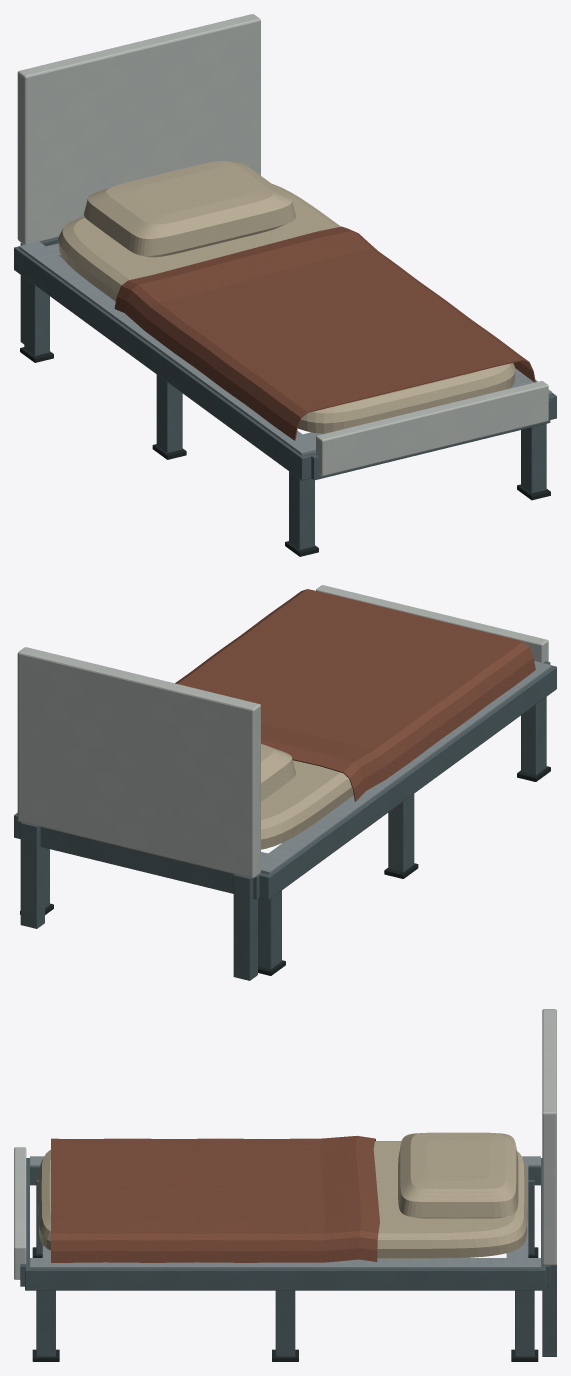
The model's file is AST-CRW-001.glb.
3 views of the same model, one above another, from view 1: azimuth 30°, elevation 25°; view 2: azimuth 150°, elevation 25°; view 3: azimuth 270°, elevation 25° (orthographic). The views are drawn at different scales.
Visible parts, largest first — view 1: AST-CRW-001__STATIC_staff_white_paint, AST-CRW-001__STATIC_crew_terracotta_blanket, AST-CRW-001__STATIC_crew_ecru_sheet, AST-CRW-001__STATIC_staff_bluegrey_paint, AST-CRW-001__STATIC_staff_zinc, AST-CRW-001__STATIC_staff_rubber; view 2: AST-CRW-001__STATIC_staff_white_paint, AST-CRW-001__STATIC_crew_terracotta_blanket, AST-CRW-001__STATIC_staff_bluegrey_paint, AST-CRW-001__STATIC_crew_ecru_sheet, AST-CRW-001__STATIC_staff_zinc, AST-CRW-001__STATIC_staff_rubber; view 3: AST-CRW-001__STATIC_crew_terracotta_blanket, AST-CRW-001__STATIC_crew_ecru_sheet, AST-CRW-001__STATIC_staff_bluegrey_paint, AST-CRW-001__STATIC_staff_zinc, AST-CRW-001__STATIC_staff_white_paint, AST-CRW-001__STATIC_staff_rubber.
Boxes of the visible parts, <box> form: AST-CRW-001__STATIC_staff_white_paint: <box>17,14,548,476</box>; AST-CRW-001__STATIC_crew_terracotta_blanket: <box>114,226,535,440</box>; AST-CRW-001__STATIC_crew_ecru_sheet: <box>58,161,515,433</box>; AST-CRW-001__STATIC_staff_bluegrey_paint: <box>14,237,556,550</box>; AST-CRW-001__STATIC_staff_zinc: <box>19,241,551,455</box>; AST-CRW-001__STATIC_staff_rubber: <box>20,347,550,556</box>; AST-CRW-001__STATIC_staff_white_paint: <box>17,585,548,878</box>; AST-CRW-001__STATIC_crew_terracotta_blanket: <box>175,589,535,801</box>; AST-CRW-001__STATIC_staff_bluegrey_paint: <box>14,661,556,980</box>; AST-CRW-001__STATIC_crew_ecru_sheet: <box>261,614,416,849</box>; AST-CRW-001__STATIC_staff_zinc: <box>261,661,551,874</box>; AST-CRW-001__STATIC_staff_rubber: <box>20,766,550,975</box>; AST-CRW-001__STATIC_crew_terracotta_blanket: <box>51,1135,379,1262</box>; AST-CRW-001__STATIC_crew_ecru_sheet: <box>38,1132,527,1258</box>; AST-CRW-001__STATIC_staff_bluegrey_paint: <box>20,1158,556,1356</box>; AST-CRW-001__STATIC_staff_zinc: <box>30,1156,540,1269</box>; AST-CRW-001__STATIC_staff_white_paint: <box>14,1009,556,1279</box>; AST-CRW-001__STATIC_staff_rubber: <box>32,1247,538,1361</box>.
Size of the model in its own units: 1.08 by 1.1 by 2.2.
Materials: 6 (6 with a texture image).
